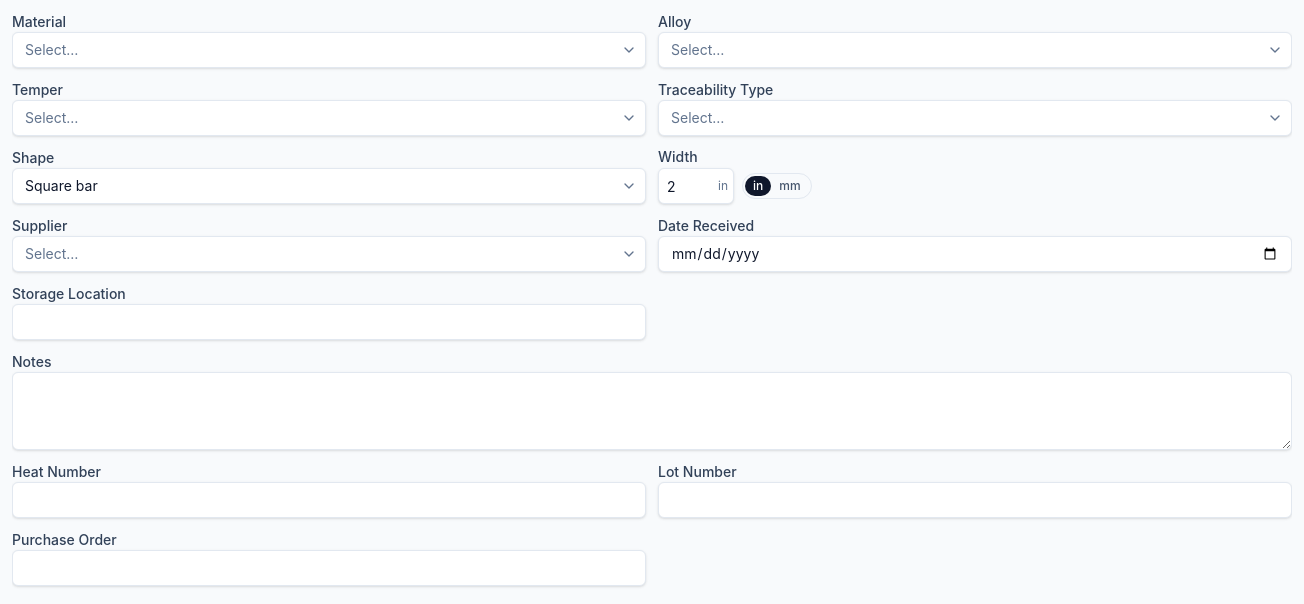
MaterialSchemaForm › clears shared dimension values when Shape changes
The width and height of the screenshot is (1304, 604).
Check: the field labelled "Width" holds "2", box [658, 168, 734, 204]
Click the dropdown named "Shape" at (61, 186), box [12, 168, 646, 204]
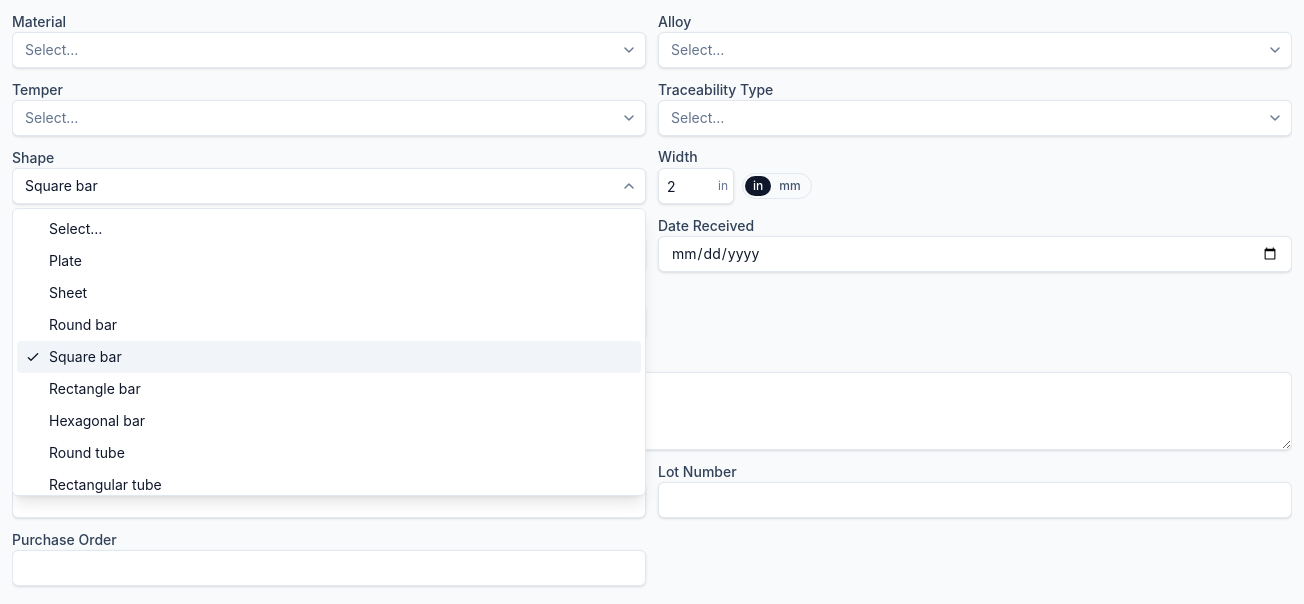
Click the option "Rectangle bar" at (95, 388), box [17, 373, 641, 405]
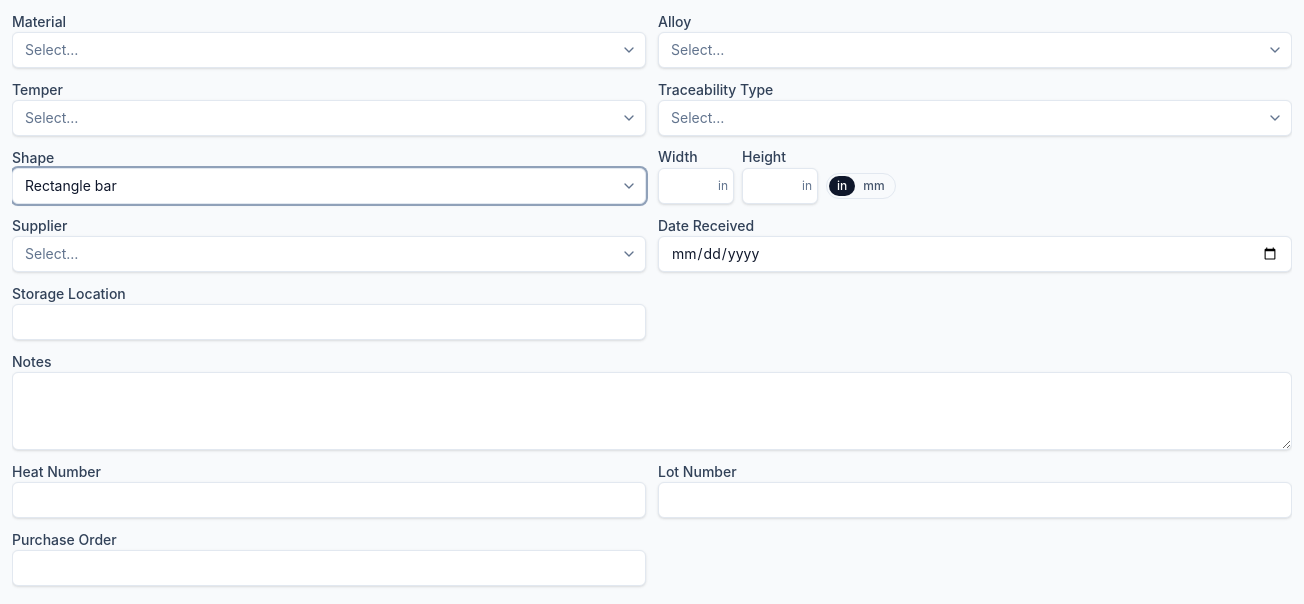
Check: the field labelled "Width" is empty, box [658, 168, 734, 204]
Check: the field labelled "Height" is shown, box [742, 168, 818, 204]
